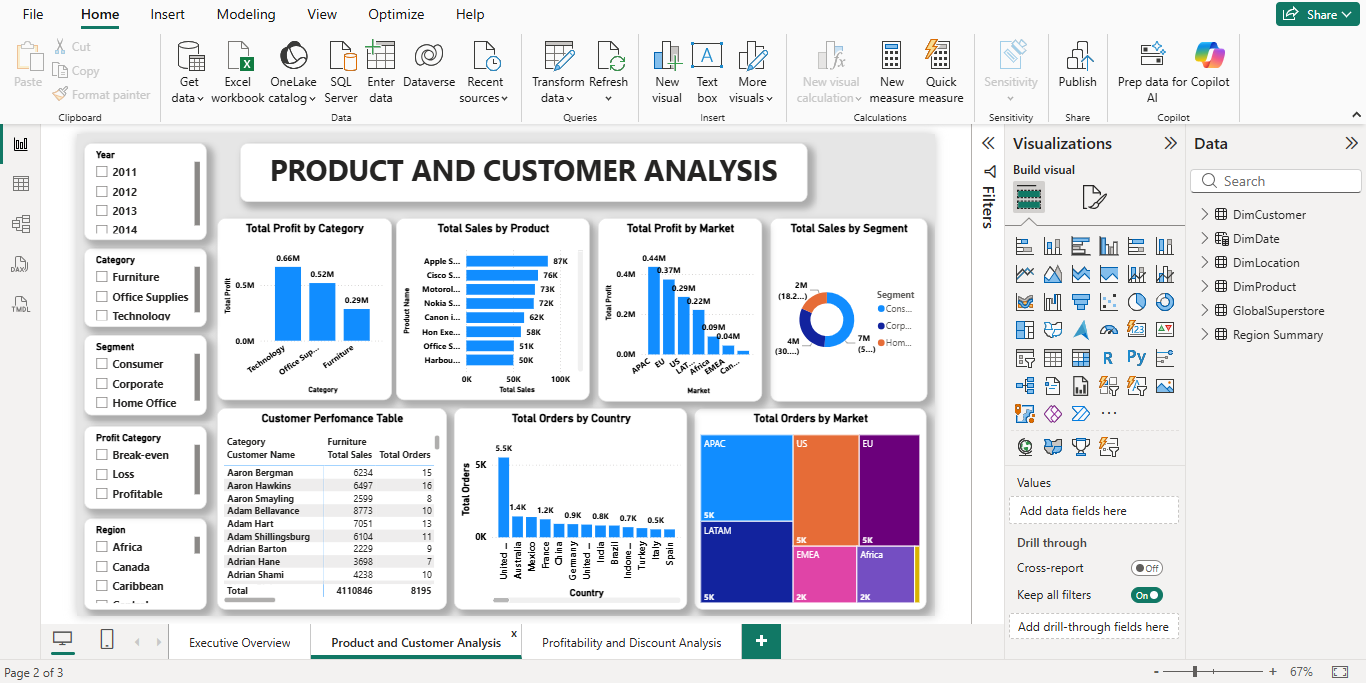

The dashboard page shown, as its layout file describes it:
{"tool":"powerbi","page":{"name":"Product and Customer Analysis","canvas":[1280,720],"ordinal":1},"visuals":[{"type":"textbox","box":[243.4,13,846.7,87.8],"z":0},{"type":"clusteredColumnChart","fields":{"Category":["GlobalSuperstore.Category"],"Y":["GlobalSuperstore.Total Profit"]},"box":[208.8,125.3,260.6,272.2],"z":1000},{"type":"barChart","title":"Total Sales by Product ","fields":{"Category":["GlobalSuperstore.Product Name"],"Y":["GlobalSuperstore.Total Sales"]},"box":[476.6,125.3,289.4,272.2],"z":2000},{"type":"donutChart","fields":{"Category":["GlobalSuperstore.Segment"],"Y":["GlobalSuperstore.Total Sales"]},"box":[1033.9,125.3,234.7,273.6],"z":3000},{"type":"slicer","fields":{"Values":["GlobalSuperstore.Category"]},"box":[10.1,169.9,182.9,118.1],"z":3001},{"type":"slicer","fields":{"Values":["GlobalSuperstore.Segment"]},"box":[10.1,299.5,182.9,119.5],"z":3002},{"type":"slicer","fields":{"Values":["GlobalSuperstore.Region"]},"box":[10.1,573.1,182.9,136.8],"z":3003},{"type":"slicer","fields":{"Values":["GlobalSuperstore.Profit Category"]},"box":[10.1,436.3,182.9,123.8],"z":3004},{"type":"treemap","fields":{"Group":["GlobalSuperstore.Market"],"Values":["GlobalSuperstore.Total Orders"]},"box":[921.6,409,347,301],"z":3005},{"type":"clusteredColumnChart","fields":{"Category":["GlobalSuperstore.Market"],"Y":["GlobalSuperstore.Total Profit"]},"box":[777.6,125.3,244.8,273.6],"z":3006},{"type":"pivotTable","title":"Customer Perfomance Table","fields":{"Columns":["GlobalSuperstore.Category"],"Rows":["DimCustomer.Customer Name"],"Values":["GlobalSuperstore.Total Sales","GlobalSuperstore.Total Orders"]},"box":[208.8,409,342.7,301],"z":3007},{"type":"slicer","fields":{"Values":["GlobalSuperstore.Year"]},"box":[10.1,13,182.9,145.4],"z":3008},{"type":"clusteredColumnChart","fields":{"Category":["DimLocation.Country"],"Y":["GlobalSuperstore.Total Orders"]},"box":[563,409,348.5,301],"z":3009}]}

Visuals, with their boxes on the page's 1280x720 design canvas (x1, y1, x2, y2). These are canvas units, not pixel positions in the 1366x683 screenshot, which may show the page scaled, cropped or inside an application window:
textbox: x1=243, y1=13, x2=1090, y2=101
clusteredColumnChart - GlobalSuperstore.Category x GlobalSuperstore.Total Profit: x1=209, y1=125, x2=469, y2=398
"Total Sales by Product " barChart: x1=477, y1=125, x2=766, y2=398
donutChart - GlobalSuperstore.Segment x GlobalSuperstore.Total Sales: x1=1034, y1=125, x2=1269, y2=399
slicer - GlobalSuperstore.Category: x1=10, y1=170, x2=193, y2=288
slicer - GlobalSuperstore.Segment: x1=10, y1=300, x2=193, y2=419
slicer - GlobalSuperstore.Region: x1=10, y1=573, x2=193, y2=710
slicer - GlobalSuperstore.Profit Category: x1=10, y1=436, x2=193, y2=560
treemap - GlobalSuperstore.Market x GlobalSuperstore.Total Orders: x1=922, y1=409, x2=1269, y2=710
clusteredColumnChart - GlobalSuperstore.Market x GlobalSuperstore.Total Profit: x1=778, y1=125, x2=1022, y2=399
"Customer Perfomance Table" pivotTable: x1=209, y1=409, x2=552, y2=710
slicer - GlobalSuperstore.Year: x1=10, y1=13, x2=193, y2=158
clusteredColumnChart - DimLocation.Country x GlobalSuperstore.Total Orders: x1=563, y1=409, x2=912, y2=710
